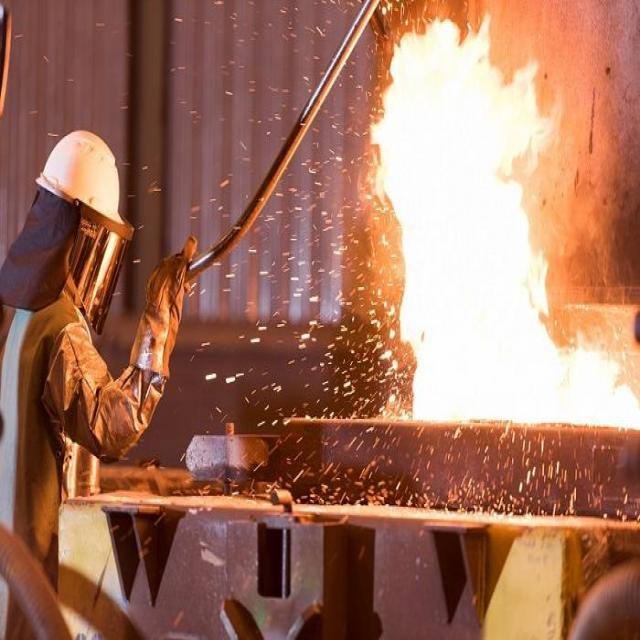Reflective-Jacket: (0, 287, 106, 547)
Safety-Helmet: (29, 121, 136, 246)
